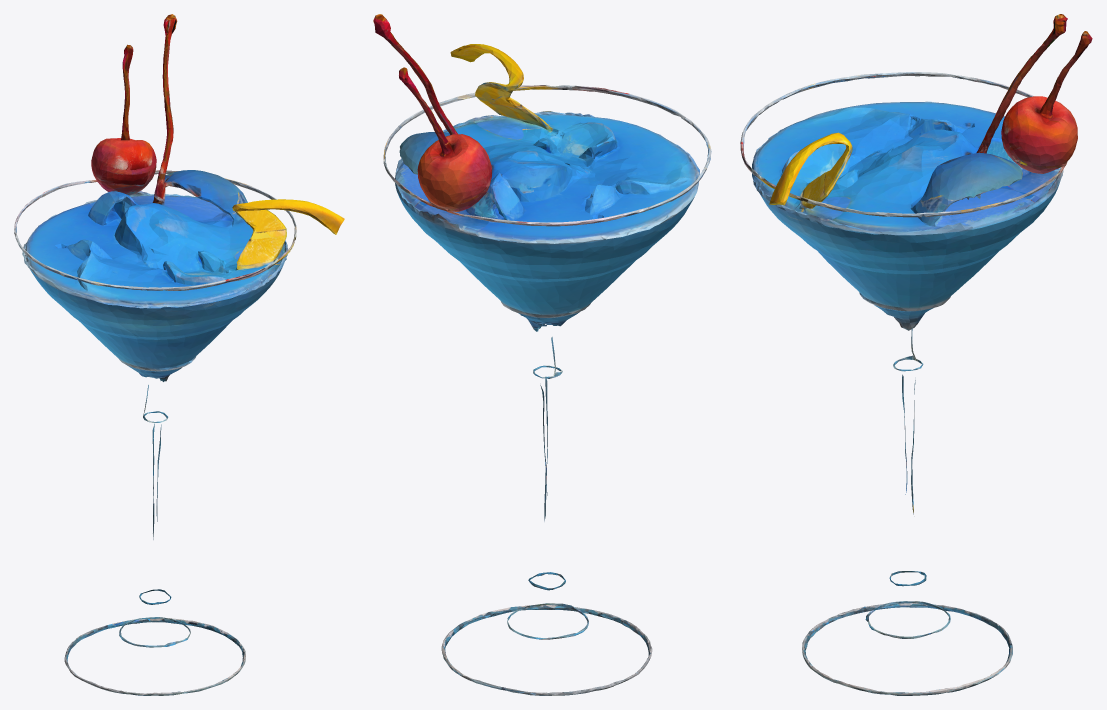
The model's file is coctail02.fbx.
3 renders of one model, left to right at view 1: azimuth 30°, elevation 25°; view 2: azimuth 150°, elevation 25°; view 3: azimuth 270°, elevation 25°, orthographic. The views are drawn at different scales.
Parts seen in each view (by area): view 1: temp; view 2: temp; view 3: temp.
Part boxes in pixels (box(x1,y1,x2,y2)): temp: box(14, 14, 344, 695); temp: box(373, 14, 711, 695); temp: box(740, 14, 1092, 695).
Size of the model in its own units: 93.06 by 198 by 92.59.
Materials: 1 (1 with a texture image).
